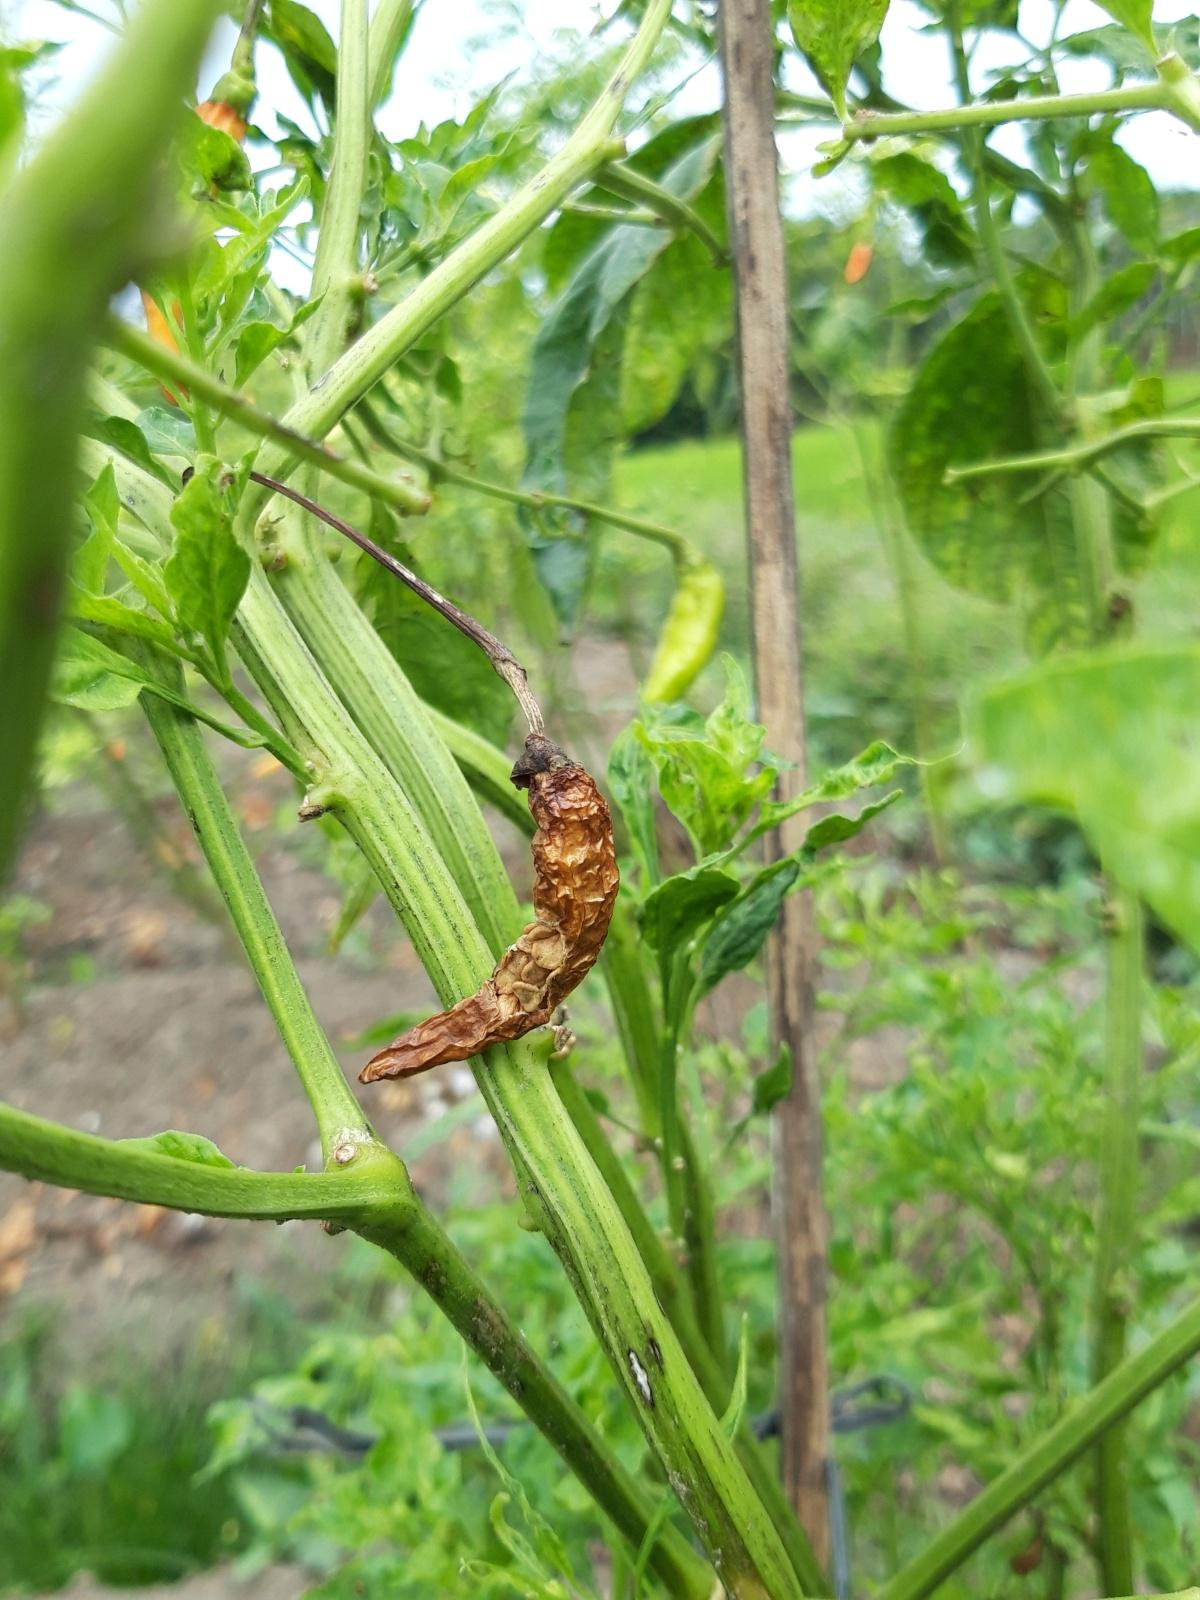antraknosa: (358, 734, 621, 1083)
cabai_normal: (643, 549, 725, 706)
